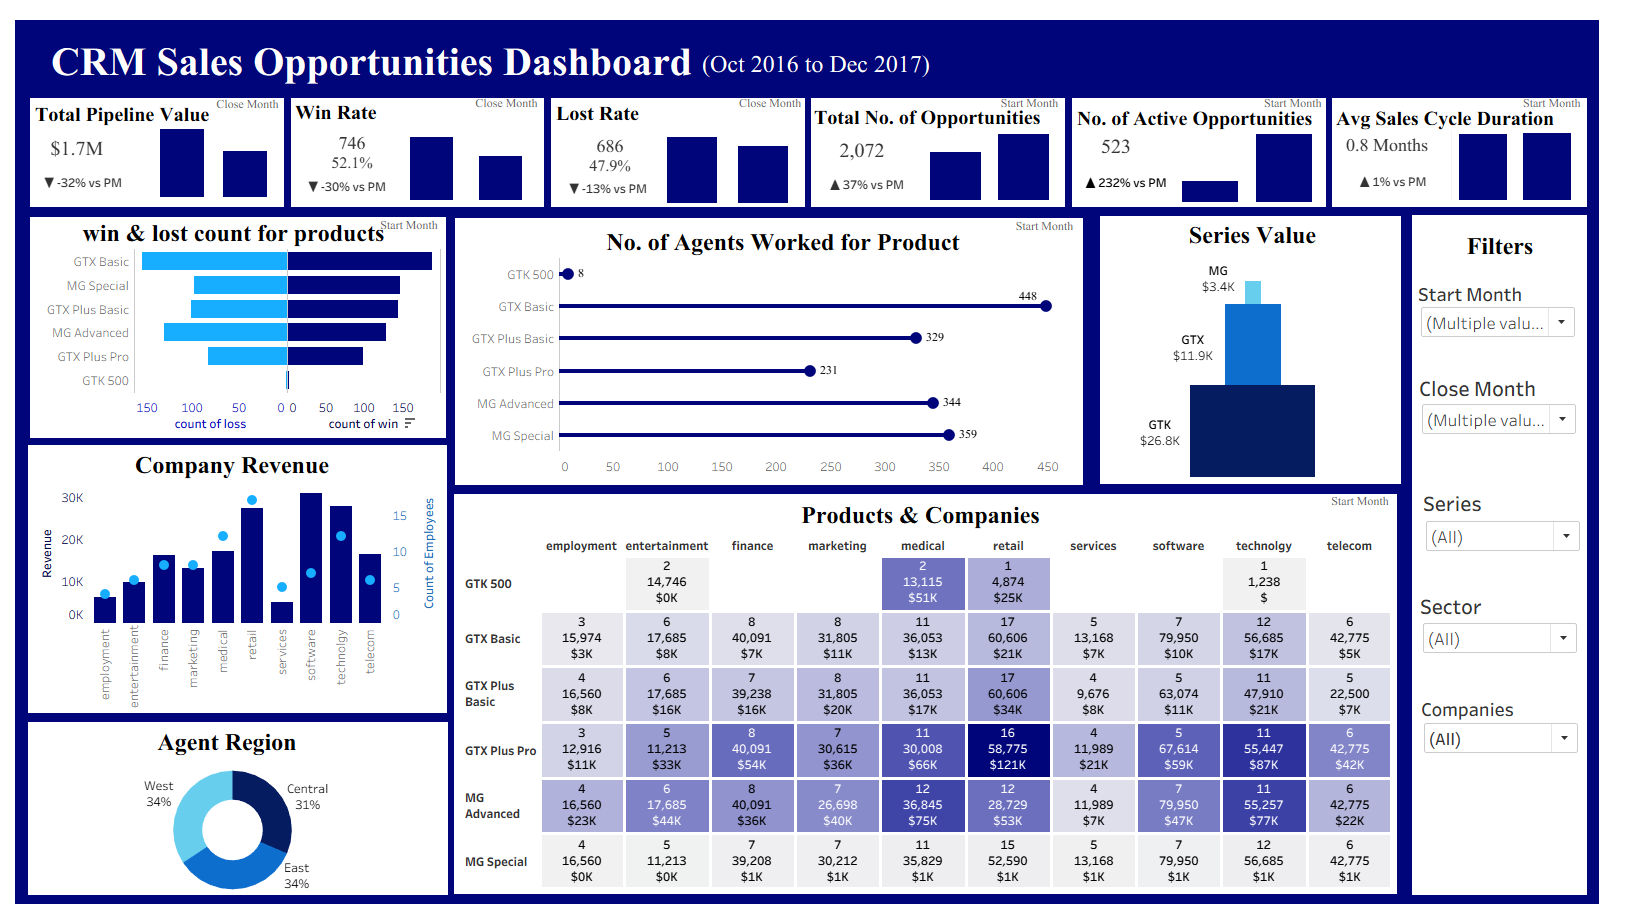

The page's visual inventory and layout, read from the dashboard file:
{"tool":"tableau","page":{"name":"Dashboard","canvas":[1600,900],"ordinal":0},"visuals":[{"type":"text","box":[26,25,677,49]},{"type":"text","box":[685,33,248,38]},{"type":"text","box":[463,86,73,11]},{"type":"text","box":[205,87,71,11]},{"type":"text","box":[728,87,68,9]},{"type":"text","box":[987,87,71,9]},{"type":"text","box":[1253,87,64,9]},{"type":"text","box":[1512,87,65,9]},{"type":"text","box":[284,88,87,26]},{"type":"text","box":[24,90,178,25]},{"type":"text","box":[545,90,91,23]},{"type":"text","box":[803,94,232,24]},{"type":"text","box":[1066,94,240,26]},{"type":"text","box":[1325,96,223,22]},{"type":"worksheet","title":"Total pipeline values with months","mark":"Bar","rows":["Calculation_608548905445171200"],"cols":["close_date"],"box":[143,114,127,71]},{"type":"worksheet","title":"Average sales cycle duration","mark":"Automatic","box":[1328,115,104,35]},{"type":"worksheet","title":"No. of Active opportunities with months","mark":"Bar","rows":["Calculation_608548905473818630"],"cols":["engage_date"],"box":[1166,118,148,72]},{"type":"worksheet","title":"avg sales cycle duration with months","mark":"Bar","rows":["Calculation_608548905477865480"],"cols":["engage_date"],"box":[1444,118,128,70]},{"type":"worksheet","title":"Win Rate","mark":"Automatic","box":[311,119,68,43]},{"type":"worksheet","title":"Lost Rate","mark":"Automatic","box":[566,119,74,50]},{"type":"worksheet","title":"Total no. of opportunities with month","mark":"Bar","rows":["deal_stage"],"cols":["engage_date"],"box":[914,119,136,69]},{"type":"worksheet","title":"No. of active Opportunities","mark":"Automatic","box":[1075,119,68,32]},{"type":"worksheet","title":"Total Pipeline value","mark":"Automatic","box":[28,121,84,32]},{"type":"worksheet","title":"Win Rate with months","mark":"Bar","rows":["Calculation_608548905468612611"],"cols":["close_date"],"box":[390,122,138,66]},{"type":"worksheet","title":"Lost rate with month","mark":"Bar","rows":["Calculation_608548905483972618"],"cols":["close_date"],"box":[649,122,143,69]},{"type":"worksheet","title":"Total no. of opportunities","mark":"Automatic","box":[818,125,74,28]},{"type":"worksheet","title":"No. of active opportunities %","mark":"Automatic","cols":["engage_date"],"box":[1065,150,107,42]},{"type":"worksheet","title":"avg sales cycle duration%","mark":"Automatic","cols":["engage_date"],"box":[1329,153,113,34]},{"type":"worksheet","title":"Total no. of opportunitites %","mark":"Automatic","cols":["engage_date"],"box":[806,156,108,33]},{"type":"worksheet","title":"Total pipeline value%","mark":"Automatic","cols":["close_date"],"box":[27,159,97,23]},{"type":"worksheet","title":"win rate %","mark":"Text","cols":["close_date"],"box":[294,163,92,23]},{"type":"worksheet","title":"Lost rate arrow","mark":"Automatic","cols":["close_date"],"box":[555,165,91,24]},{"type":"text","box":[70,205,313,32]},{"type":"text","box":[367,207,70,12]},{"type":"text","box":[1137,207,217,32]},{"type":"text","box":[1001,208,73,12]},{"type":"text","box":[569,211,414,38]},{"type":"text","box":[1439,221,108,26]},{"type":"worksheet","title":"win & lost count of products","mark":"Automatic","rows":["product (products.csv)"],"cols":["Calculation_608548905483972618","Calculation_608548905468612611"],"box":[27,237,407,184]},{"type":"worksheet","title":"Series value","mark":"Automatic","rows":["sales_price"],"box":[1113,242,265,223]},{"type":"worksheet","title":"no. of agents worked for products","mark":"Circle","rows":["product (products.csv)"],"cols":["sales_agent","sales_agent"],"box":[452,246,617,223]},{"type":"filter","title":"Total no. of opportunities with month","param":"[federated.1fli8450xxu0en1eang3d1tb2pip].[mn:engage_date:ok]","box":[1411,269,160,56]},{"type":"filter","title":"Total pipeline value%","param":"[federated.1fli8450xxu0en1eang3d1tb2pip].[mn:close_date:ok]","box":[1412,362,160,61]},{"type":"text","box":[45,436,360,34]},{"type":"worksheet","title":"Company Revenue","mark":"Automatic","rows":["revenue","employees"],"cols":["sector"],"box":[24,474,413,223]},{"type":"filter","title":"win & lost count of products","param":"[federated.1fli8450xxu0en1eang3d1tb2pip].[none:series:nk]","box":[1416,477,160,72]},{"type":"text","box":[1318,484,70,10]},{"type":"text","box":[477,486,873,35]},{"type":"worksheet","title":"Product & companies","mark":"Square","rows":["product (products.csv)"],"cols":["sector"],"box":[451,522,936,357]},{"type":"filter","title":"Company Revenue","param":"[federated.1fli8450xxu0en1eang3d1tb2pip].[none:sector:nk]","box":[1413,580,160,63]},{"type":"filter","title":"Product & companies","param":"[federated.1fli8450xxu0en1eang3d1tb2pip].[none:account (accounts.csv):nk]","box":[1414,684,160,58]},{"type":"text","box":[98,715,244,30]},{"type":"worksheet","title":"Agents Region","mark":"Pie","rows":["Calculation_608548905508102158","Calculation_608548905508102158"],"box":[21,754,409,128]}]}

Visuals, with their boxes in screenshot pixels (x1, y1, x2, y2), scaled from the page's 1600x900 canvas onto the 1625x918 screenshot:
text: x1=26 y1=26 x2=714 y2=75
text: x1=696 y1=34 x2=948 y2=72
text: x1=470 y1=88 x2=544 y2=99
text: x1=208 y1=89 x2=280 y2=100
text: x1=739 y1=89 x2=808 y2=98
text: x1=1002 y1=89 x2=1075 y2=98
text: x1=1273 y1=89 x2=1338 y2=98
text: x1=1536 y1=89 x2=1602 y2=98
text: x1=288 y1=90 x2=377 y2=116
text: x1=24 y1=92 x2=205 y2=117
text: x1=554 y1=92 x2=646 y2=115
text: x1=816 y1=96 x2=1051 y2=120
text: x1=1083 y1=96 x2=1326 y2=122
text: x1=1346 y1=98 x2=1572 y2=120
"Total pipeline values with months" worksheet (Bar marks): x1=145 y1=116 x2=274 y2=189
"Average sales cycle duration" worksheet: x1=1349 y1=117 x2=1454 y2=153
"No. of Active opportunities with months" worksheet (Bar marks): x1=1184 y1=120 x2=1335 y2=194
"avg sales cycle duration with months" worksheet (Bar marks): x1=1467 y1=120 x2=1597 y2=192
"Win Rate" worksheet: x1=316 y1=121 x2=385 y2=165
"Lost Rate" worksheet: x1=575 y1=121 x2=650 y2=172
"Total no. of opportunities with month" worksheet (Bar marks): x1=928 y1=121 x2=1066 y2=192
"No. of active Opportunities" worksheet: x1=1092 y1=121 x2=1161 y2=154
"Total Pipeline value" worksheet: x1=28 y1=123 x2=114 y2=156
"Win Rate with months" worksheet (Bar marks): x1=396 y1=124 x2=536 y2=192
"Lost rate with month" worksheet (Bar marks): x1=659 y1=124 x2=804 y2=195
"Total no. of opportunities" worksheet: x1=831 y1=128 x2=906 y2=156
"No. of active opportunities %" worksheet: x1=1082 y1=153 x2=1190 y2=196
"avg sales cycle duration%" worksheet: x1=1350 y1=156 x2=1465 y2=191
"Total no. of opportunitites %" worksheet: x1=819 y1=159 x2=928 y2=193
"Total pipeline value%" worksheet: x1=27 y1=162 x2=126 y2=186
"win rate %" worksheet (Text marks): x1=299 y1=166 x2=392 y2=190
"Lost rate arrow" worksheet: x1=564 y1=168 x2=656 y2=193
text: x1=71 y1=209 x2=389 y2=242
text: x1=373 y1=211 x2=444 y2=223
text: x1=1155 y1=211 x2=1375 y2=244
text: x1=1017 y1=212 x2=1091 y2=224
text: x1=578 y1=215 x2=998 y2=254
text: x1=1461 y1=225 x2=1571 y2=252
"win & lost count of products" worksheet: x1=27 y1=242 x2=441 y2=429
"Series value" worksheet: x1=1130 y1=247 x2=1400 y2=474
"no. of agents worked for products" worksheet (Circle marks): x1=459 y1=251 x2=1086 y2=478
"Total no. of opportunities with month" filter: x1=1433 y1=274 x2=1596 y2=332
"Total pipeline value%" filter: x1=1434 y1=369 x2=1597 y2=431
text: x1=46 y1=445 x2=411 y2=479
"Company Revenue" worksheet: x1=24 y1=483 x2=444 y2=711
"win & lost count of products" filter: x1=1438 y1=487 x2=1601 y2=560
text: x1=1339 y1=494 x2=1410 y2=504
text: x1=484 y1=496 x2=1371 y2=531
"Product & companies" worksheet (Square marks): x1=458 y1=532 x2=1409 y2=897
"Company Revenue" filter: x1=1435 y1=592 x2=1598 y2=656
"Product & companies" filter: x1=1436 y1=698 x2=1599 y2=757
text: x1=100 y1=729 x2=347 y2=760
"Agents Region" worksheet (Pie marks): x1=21 y1=769 x2=437 y2=900
